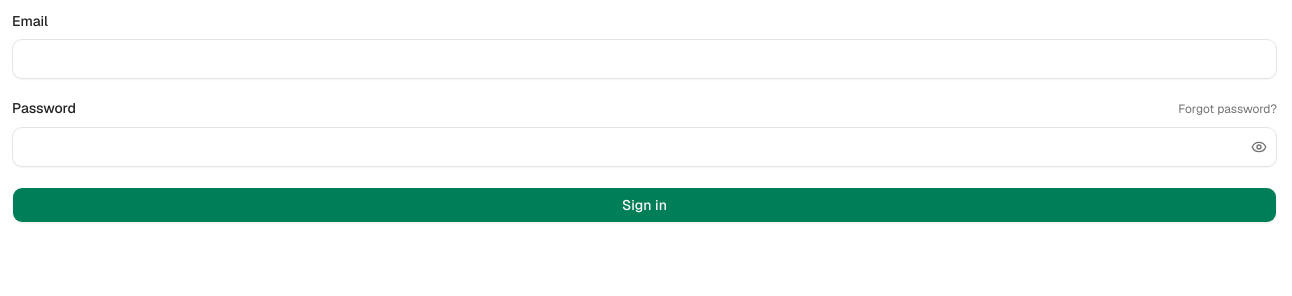
Test case: LoginForm › shows validation errors and does not submit invalid input
This screenshot has width=1292, height=296.
In the field labelled "Email": [644, 59] box [12,39,1277,79], type "not-an-email"
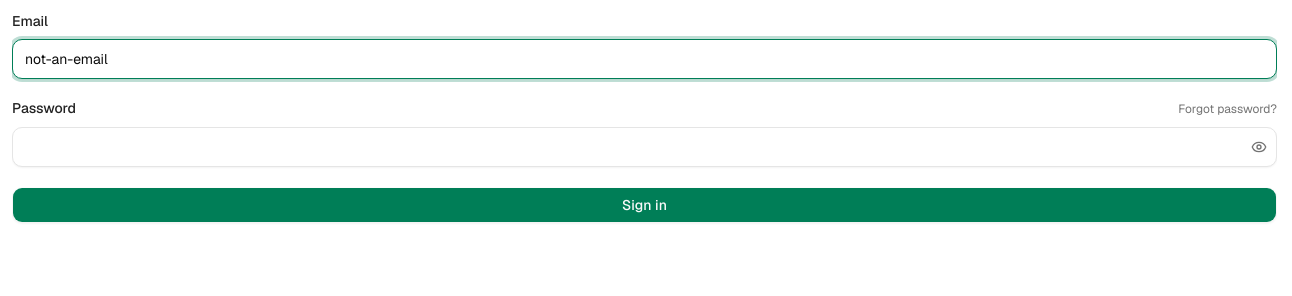
Click the button "Sign in": [644, 204] box [12,186,1277,222]
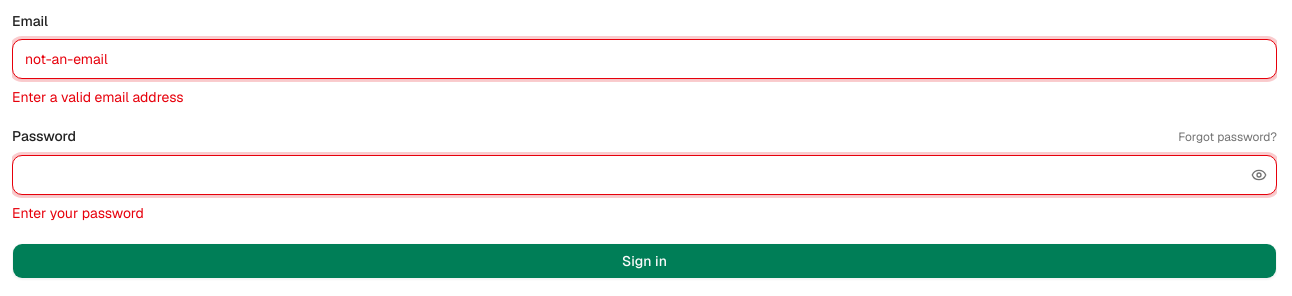
expect the text "Enter a valid email address" is shown: met, box [12,88,184,106]
expect the text "Enter your password" is shown: met, box [12,204,144,222]
